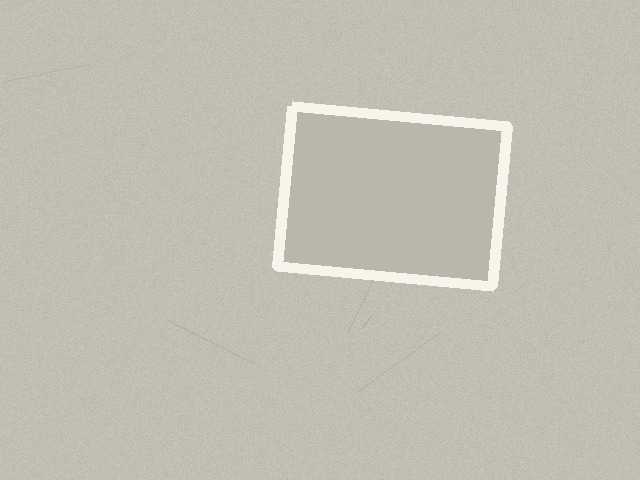parking_area: (277, 106, 507, 286)
